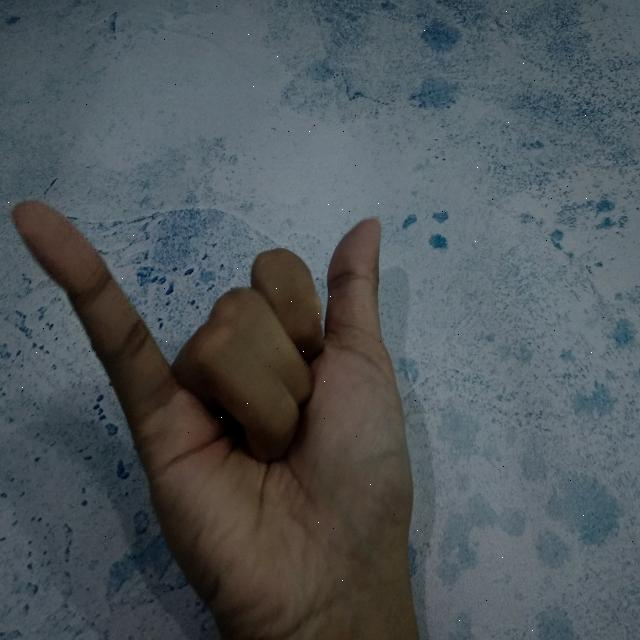Y: (8, 191, 431, 640)
